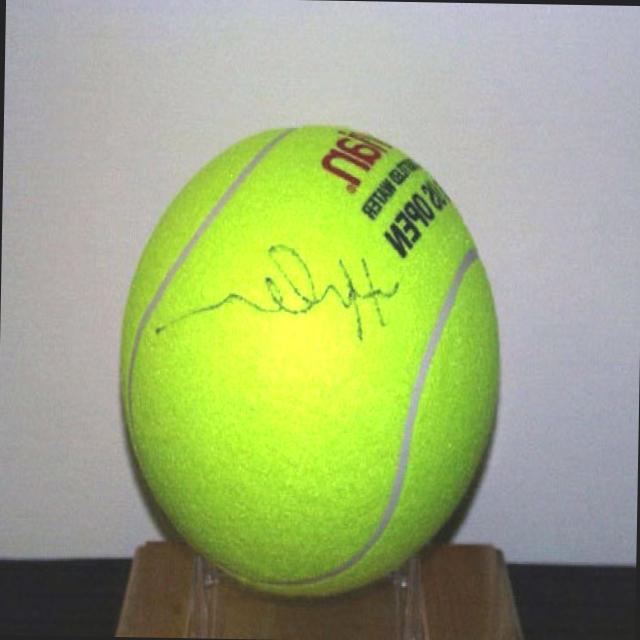Tennis Ball: (116, 125, 501, 604)
